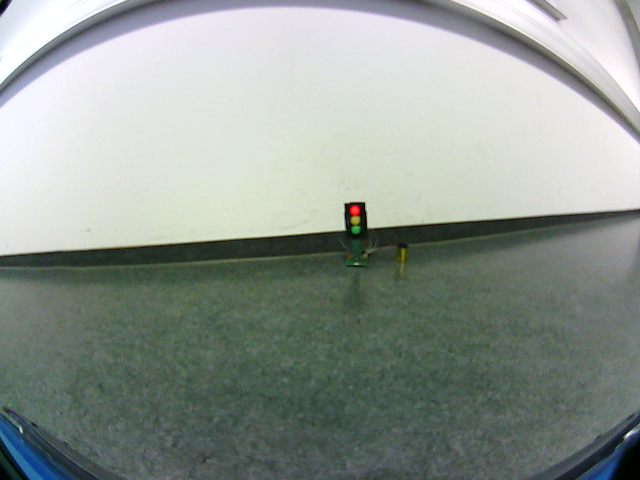red trafficlight: (345, 203, 365, 238)
